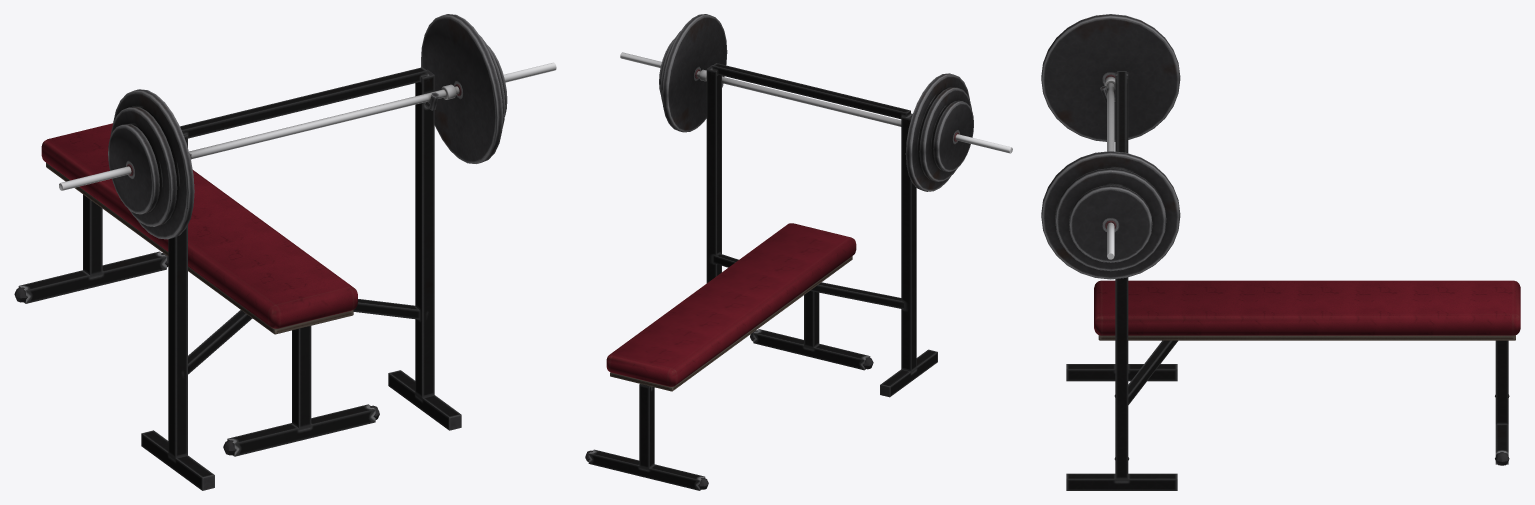
File: WeightBench.fbx
3 renders of one model, left to right at view 1: azimuth 30°, elevation 25°; view 2: azimuth 150°, elevation 25°; view 3: azimuth 270°, elevation 25°, orthographic. The views are drawn at different scales.
Parts seen in each view (by area): view 1: WeightBench; view 2: WeightBench; view 3: WeightBench.
Boxes of the visible parts, x1,y1,x2,y2 form: WeightBench: (14, 14, 556, 490); WeightBench: (585, 14, 1012, 490); WeightBench: (1041, 14, 1520, 490).
Bounding box in the file's own units: 560 × 417 × 517.
